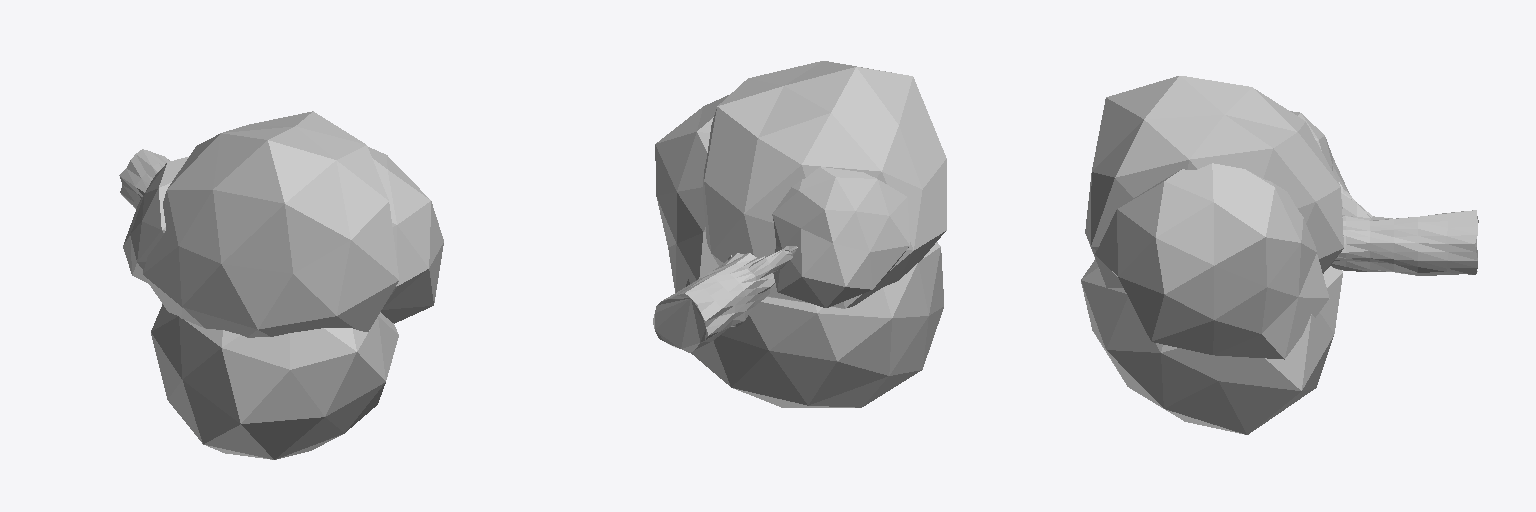
The model's file is mediumtree.obj.
The picture shows the model from 3 angles: view 1: azimuth 30°, elevation 25°; view 2: azimuth 150°, elevation 25°; view 3: azimuth 270°, elevation 25°; orthographic projection.
Visible parts, largest first — view 1: Icosphere, Cylinder; view 2: Icosphere, Cylinder; view 3: Icosphere, Cylinder.
Part boxes in pixels (left/top/right/bottom): Icosphere: left=123, top=111, right=443, bottom=459; Cylinder: left=119, top=149, right=169, bottom=208; Icosphere: left=655, top=61, right=946, bottom=407; Cylinder: left=653, top=246, right=797, bottom=352; Icosphere: left=1081, top=76, right=1349, bottom=434; Cylinder: left=1331, top=182, right=1478, bottom=275.
Size of the model in its own units: 3.48 by 4.12 by 4.6.